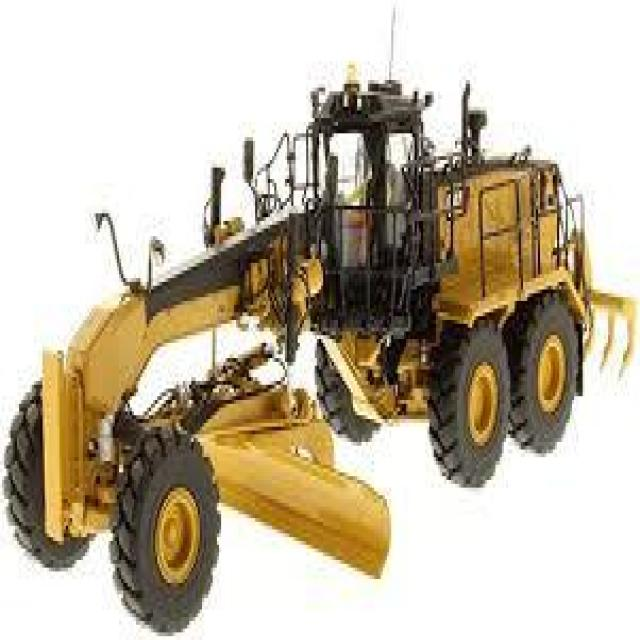Grader: (11, 65, 629, 636)
